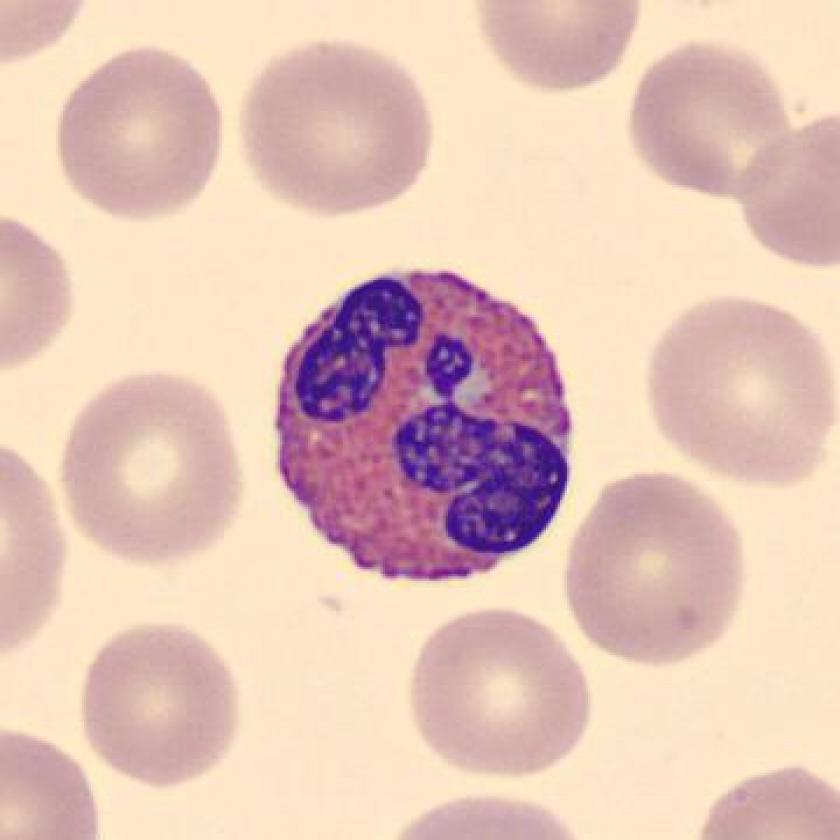eosinophil: (262, 253, 589, 598)
